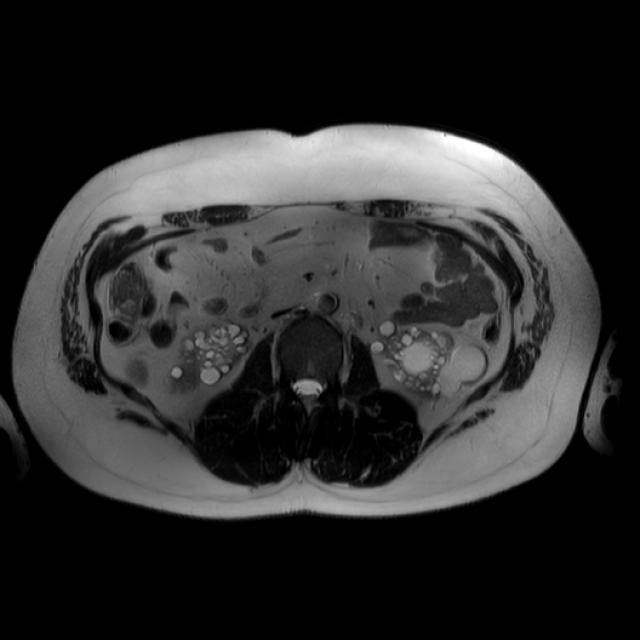sag: (170, 322, 248, 390)
sol: (370, 320, 491, 398)
